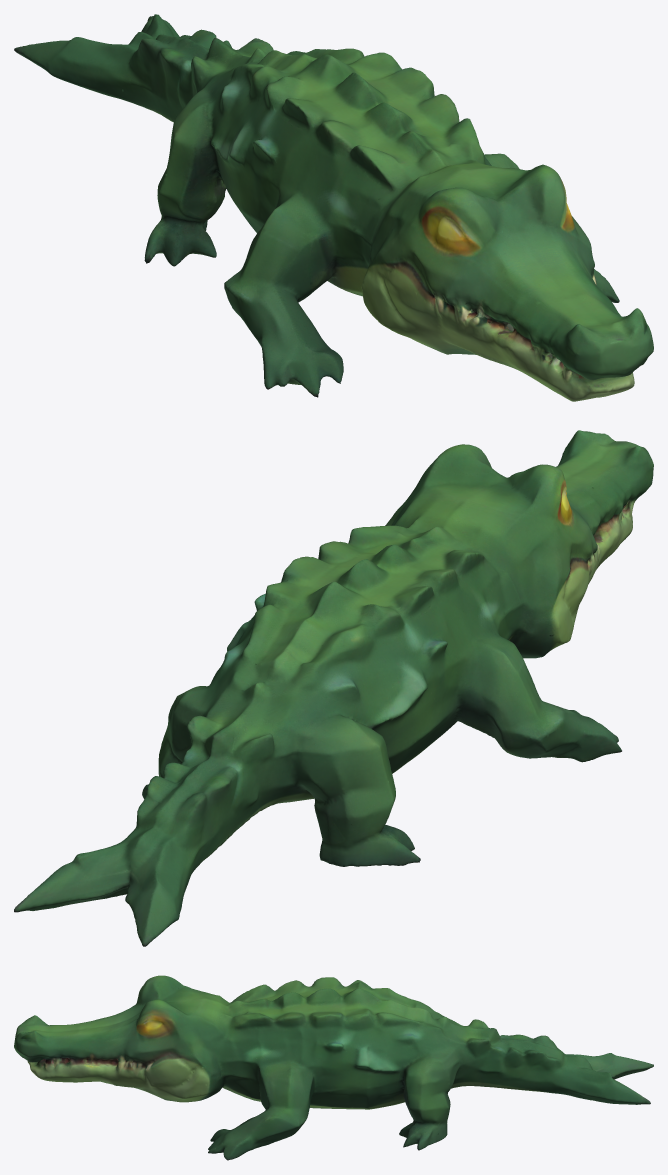
File: Crocodile.glb
3 renders of one model, top to bottom at view 1: azimuth 30°, elevation 25°; view 2: azimuth 150°, elevation 25°; view 3: azimuth 270°, elevation 25°, orthographic. The views are drawn at different scales.
Size of the model in its own units: 0.7467 by 0.435 by 2.
1 material, 1 textured.
